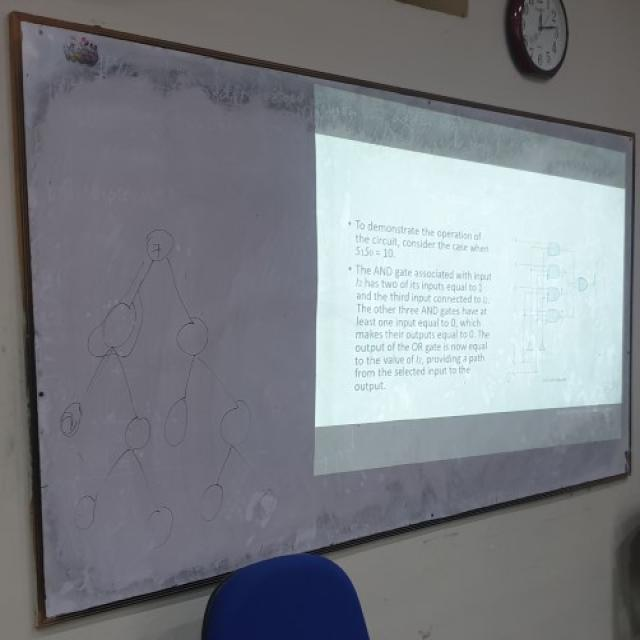Slide: (313, 88, 620, 482)
White-board: (13, 20, 632, 623)
